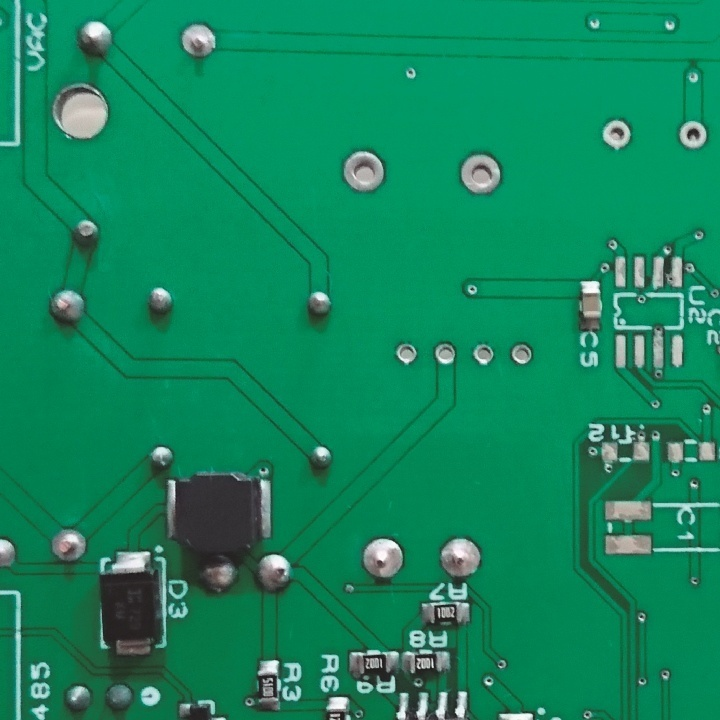F: (336, 146, 390, 196), (456, 151, 505, 199), (437, 535, 487, 582), (358, 534, 406, 582), (176, 18, 219, 63), (49, 524, 91, 566), (599, 118, 636, 152), (677, 119, 710, 152), (432, 340, 461, 369), (393, 339, 421, 367), (510, 339, 536, 368), (472, 342, 495, 368)
